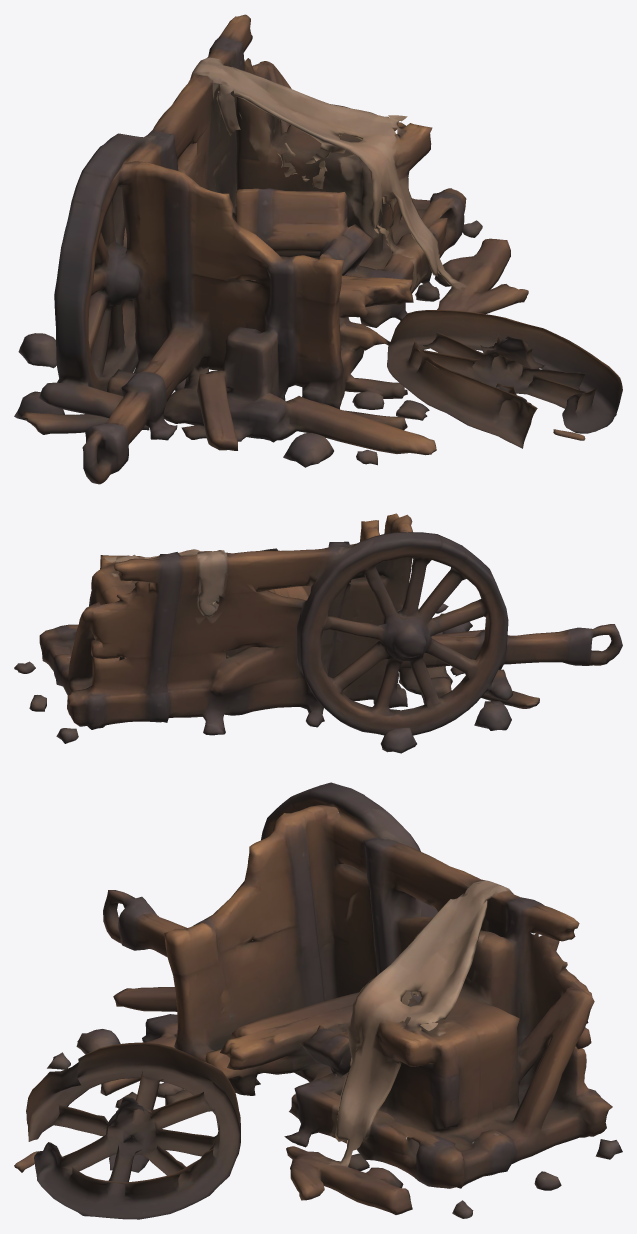
The model's file is wagon_wreck.glb.
The picture shows the model from 3 angles, top to bottom: view 1: azimuth 30°, elevation 25°; view 2: azimuth 150°, elevation 25°; view 3: azimuth 270°, elevation 25°; orthographic projection. The views are drawn at different scales.
Parts seen in each view (by area): view 1: tripo_node_80f24fd8; view 2: tripo_node_80f24fd8; view 3: tripo_node_80f24fd8.
Boxes of the visible parts, x1,y1,x2,y2 form: tripo_node_80f24fd8: (14, 14, 622, 484); tripo_node_80f24fd8: (14, 513, 622, 753); tripo_node_80f24fd8: (14, 782, 622, 1219).
Size of the model in its own units: 99.36 by 41.75 by 92.59.
1 material, 1 textured.
